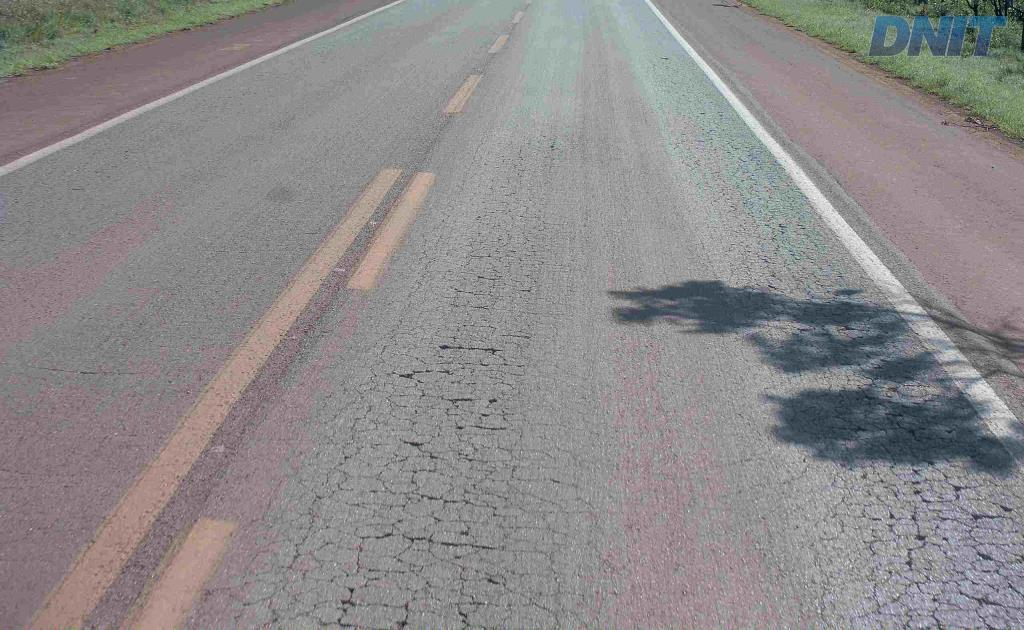crack: (393, 530, 511, 566), (443, 564, 485, 616)
